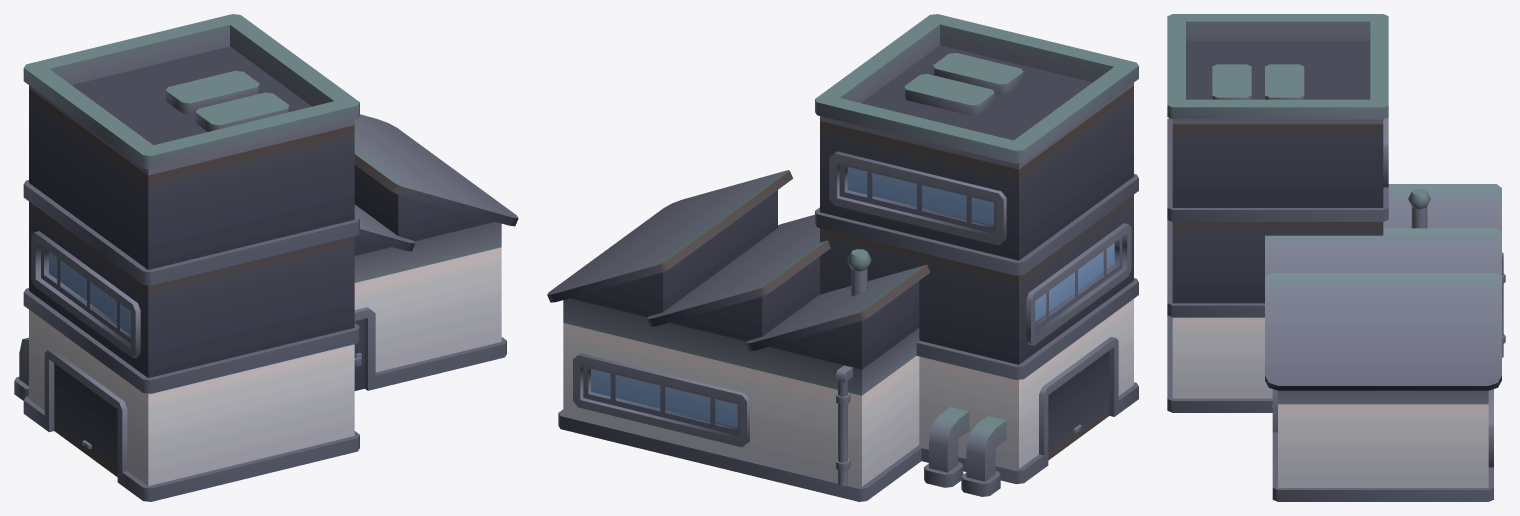
File: ind_building_g.glb
3 renders of one model, left to right at view 1: azimuth 30°, elevation 25°; view 2: azimuth 150°, elevation 25°; view 3: azimuth 270°, elevation 25°, orthographic. The views are drawn at different scales.
Parts seen in each view (by area): view 1: building-g; view 2: building-g; view 3: building-g.
Part boxes in pixels (<box>): building-g: <box>14,14,518,501</box>; building-g: <box>547,14,1138,501</box>; building-g: <box>1167,14,1505,501</box>.
Size of the model in its own units: 1.68 by 1.28 by 1.28.
1 material, 1 textured.
